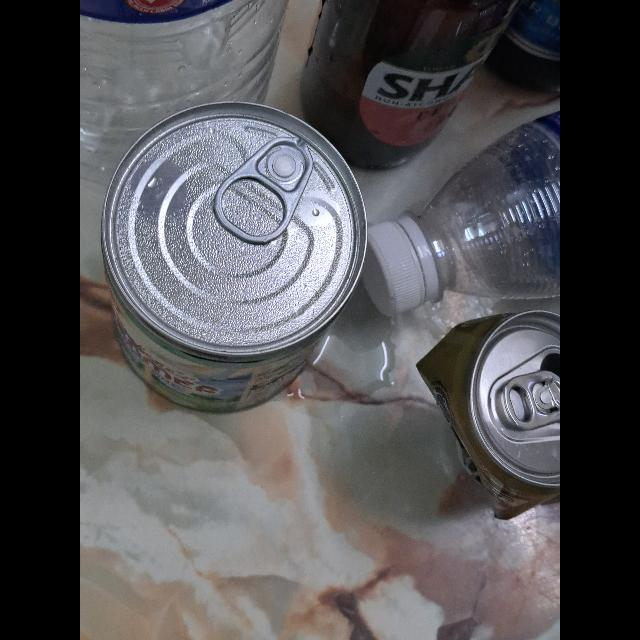aba de lata: (212, 139, 314, 245), (496, 369, 560, 431)
garrafa de vidro: (301, 0, 511, 170)
garrafa plástica: (80, 0, 286, 186), (424, 114, 560, 298)
lata: (101, 102, 369, 418), (416, 308, 560, 522)
tampa plástica: (359, 224, 429, 316)
